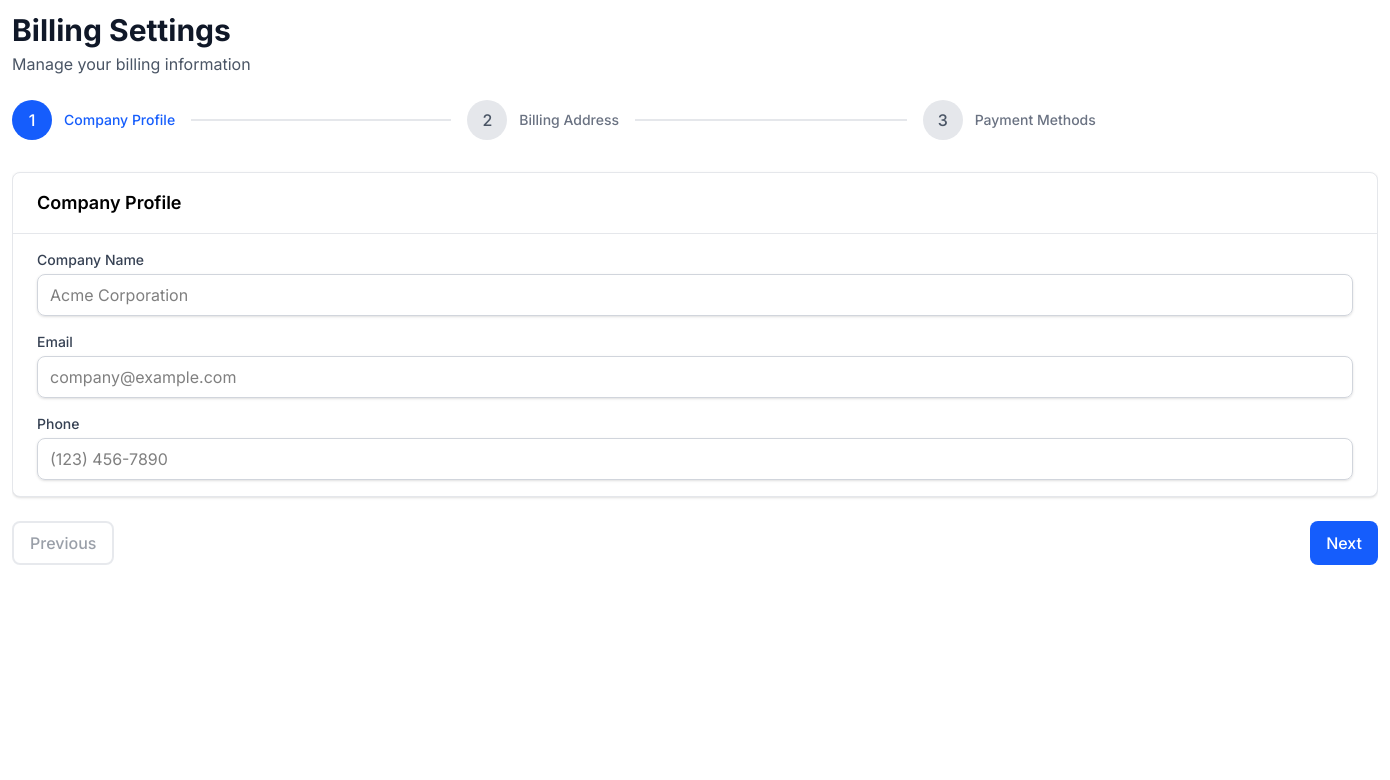
Scenario: BillingFormPage › Step 1 - Company Profile › shows validation error when company name is too short
Type "A" into the field labelled "Company Name" at (695, 295), box [37,274,1353,316]
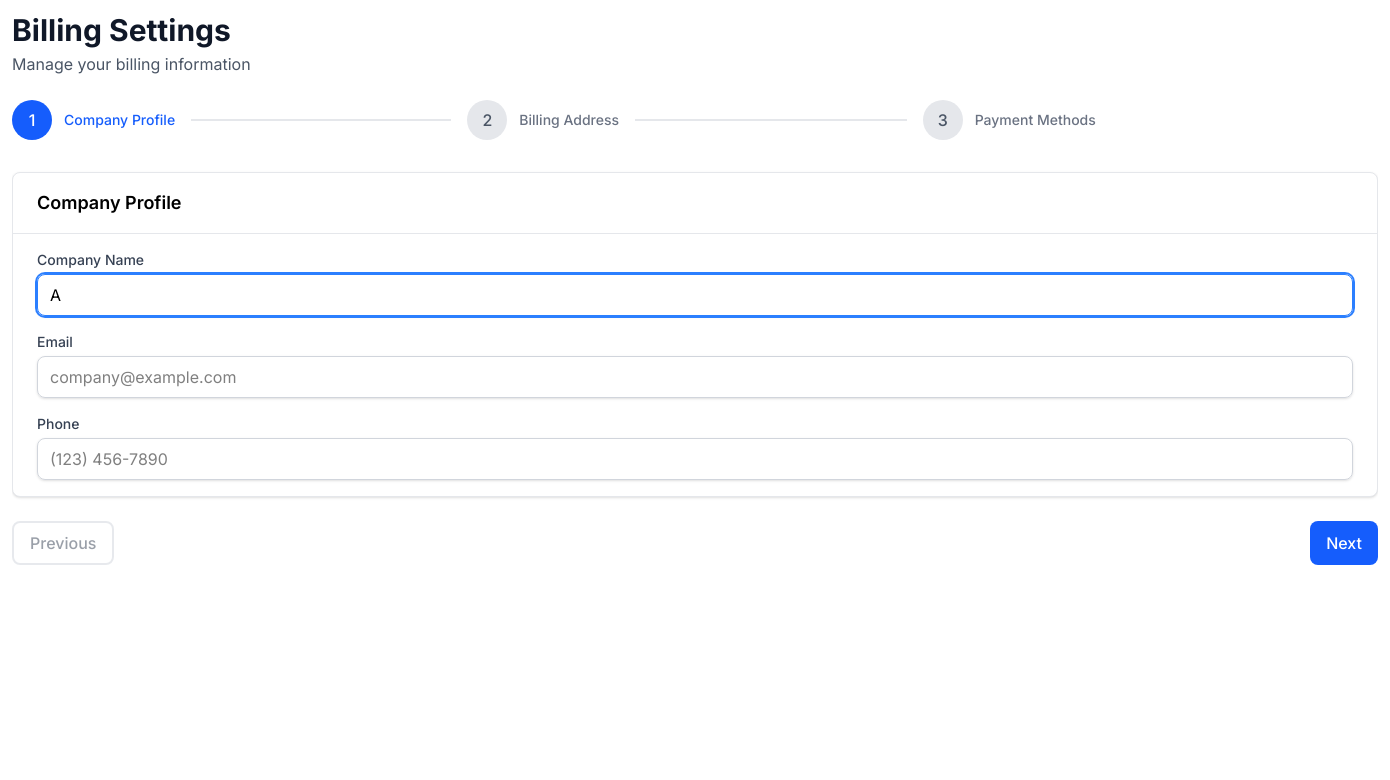
Click the button "Next" at (1344, 543), box [1310,521,1378,565]
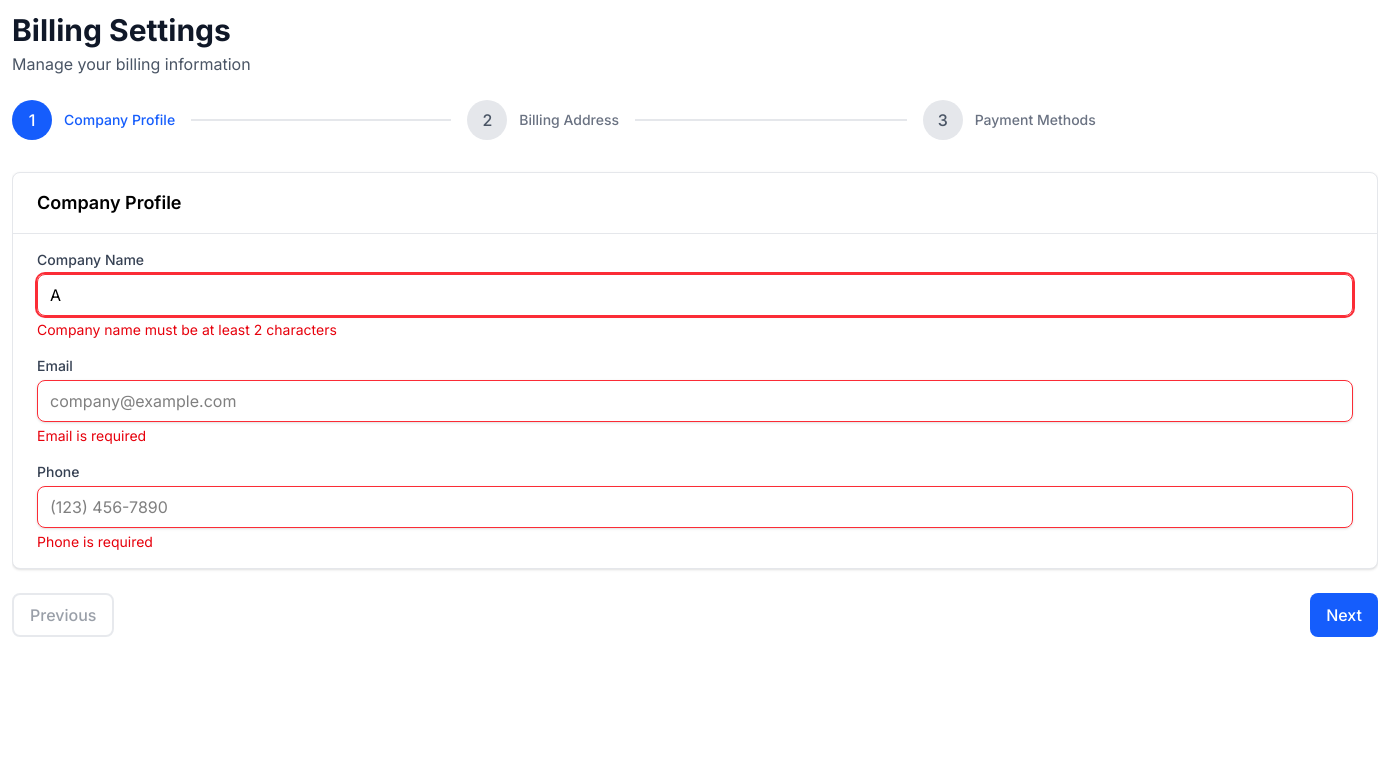
Check: the text "Company name must be at least 2 characters" is shown, box [37,321,337,338]
